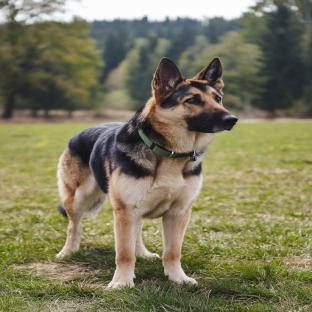Animal: (56, 57, 237, 288)
